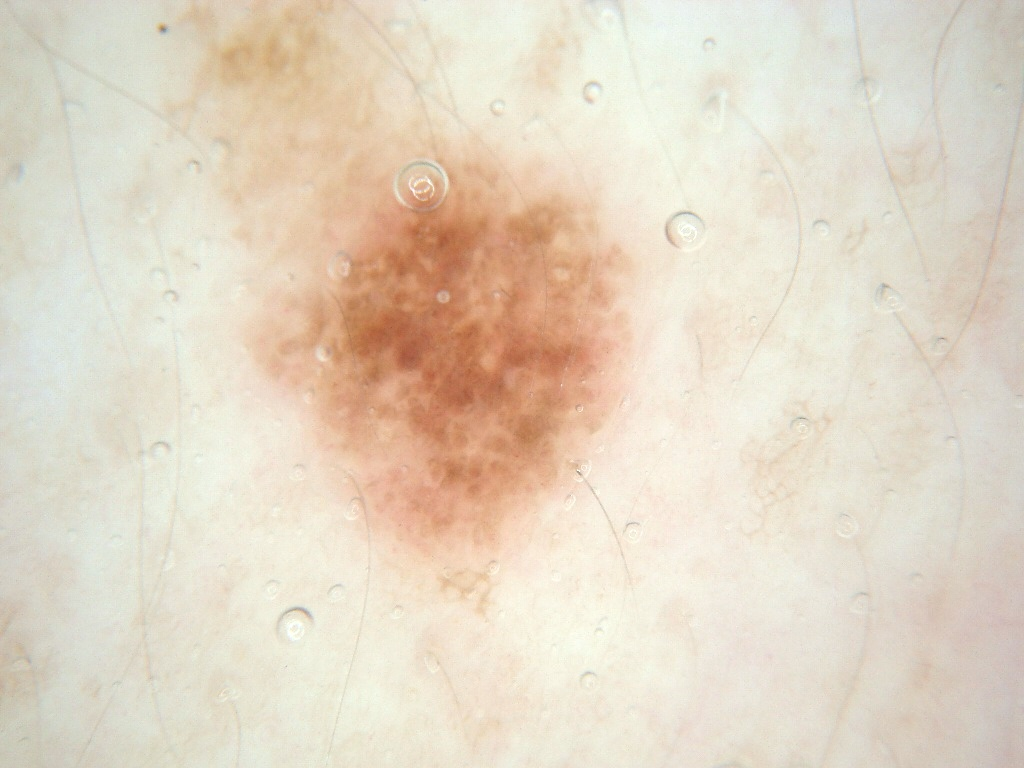Detected Lesion: (171, 1, 636, 631)
